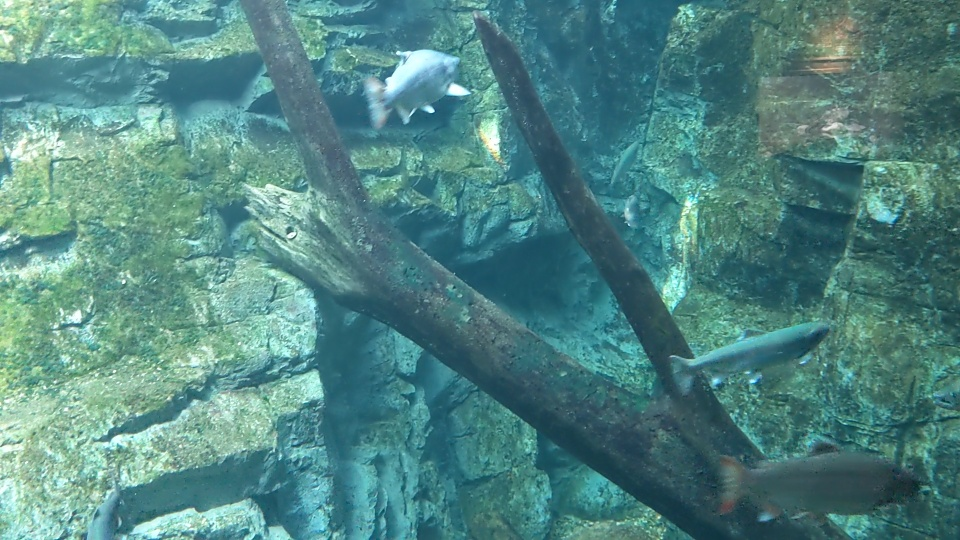Fish: (717, 441, 918, 522), (664, 316, 837, 390), (364, 48, 471, 127), (88, 467, 148, 540), (609, 137, 640, 189), (621, 191, 639, 236)
